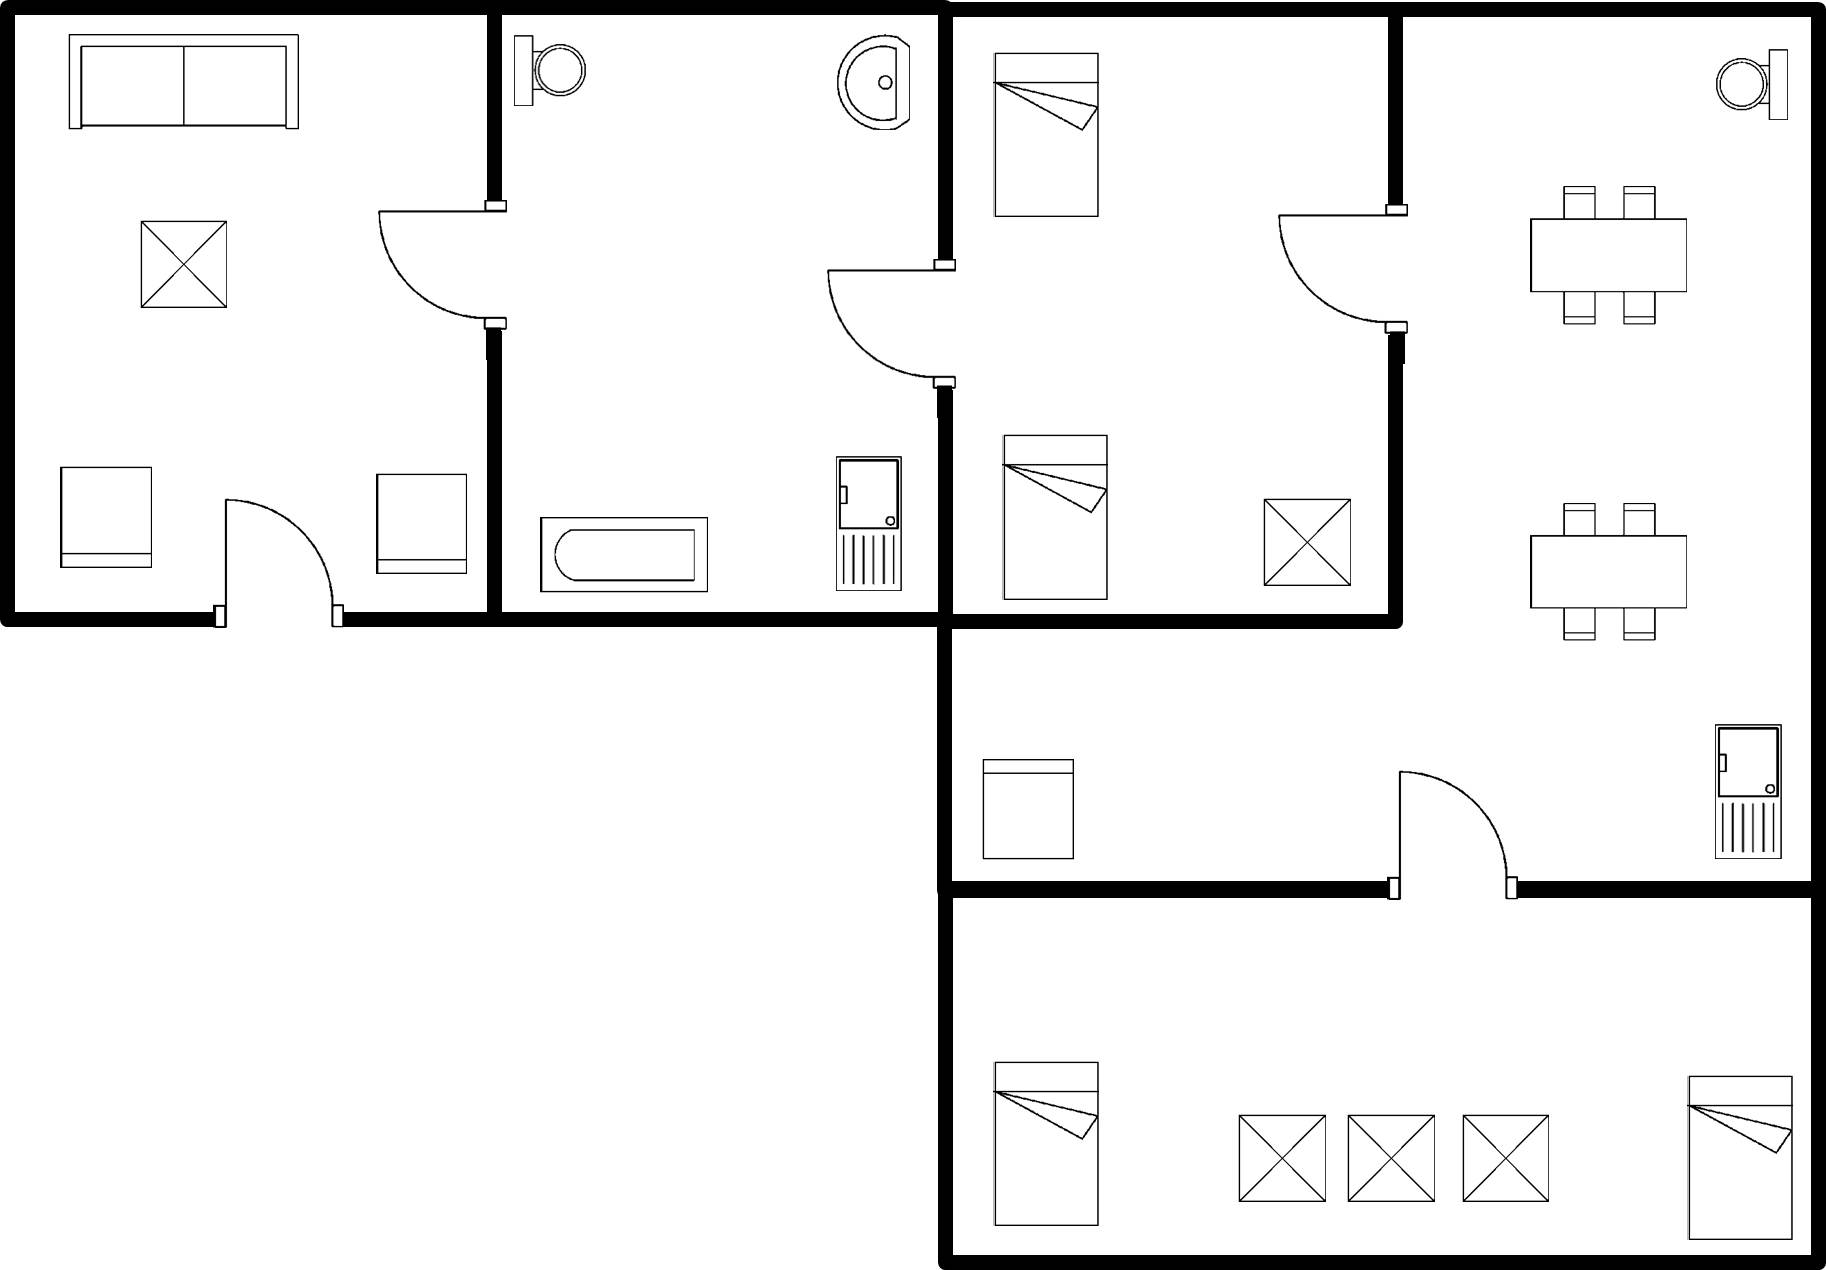bed: (990, 426, 1122, 608), (985, 41, 1108, 226), (985, 1052, 1108, 1237), (1678, 1069, 1801, 1251)
coffee_table: (986, 43, 1107, 226), (131, 209, 238, 319), (1453, 1106, 1561, 1216), (1339, 1106, 1447, 1213), (1253, 489, 1359, 596), (1230, 1108, 1337, 1212)
dining_table: (1516, 177, 1704, 334), (1516, 493, 1700, 651)
large_sink: (826, 447, 909, 603), (1701, 39, 1796, 133), (504, 25, 594, 120)
large_sofa: (57, 24, 311, 141)
small_sink: (821, 26, 920, 137)
small_sofa: (970, 746, 1085, 872), (50, 460, 164, 580), (363, 467, 477, 587), (1707, 711, 1792, 870)
tub: (527, 508, 718, 606)
